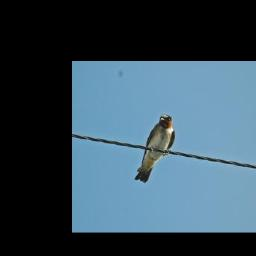Swallow: (132, 113, 175, 183)
